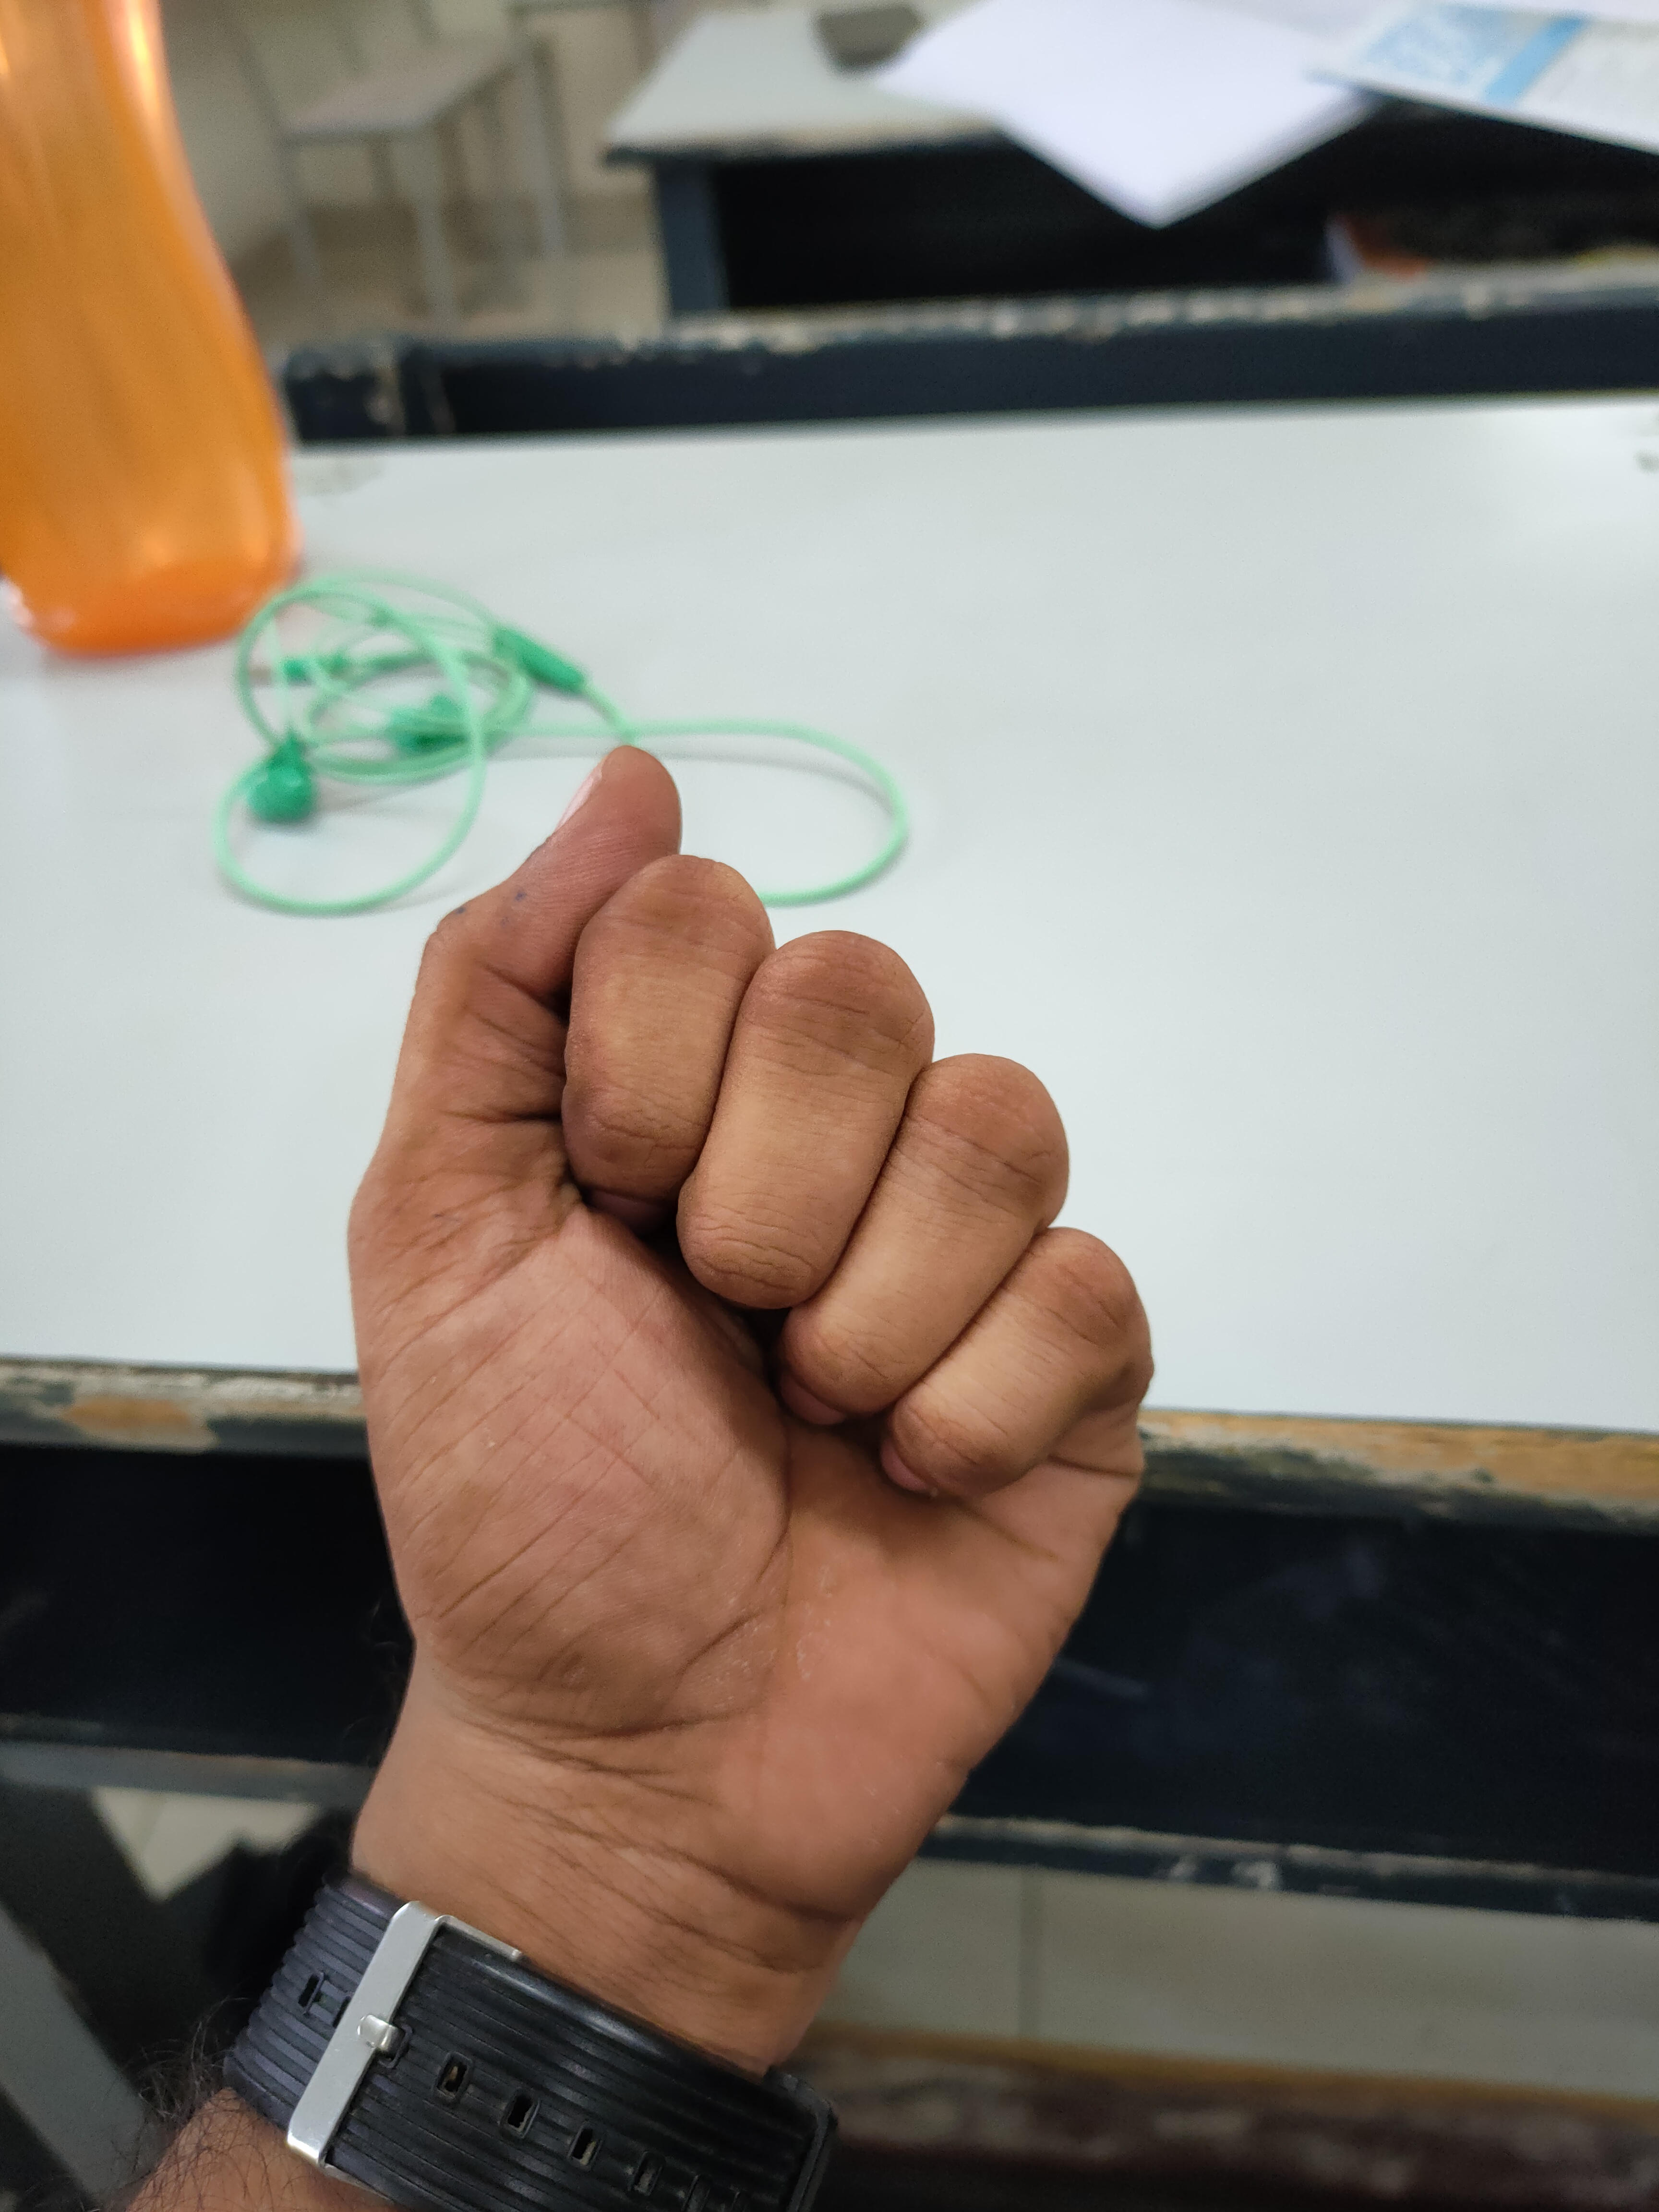A: (254, 740, 1178, 1970)
